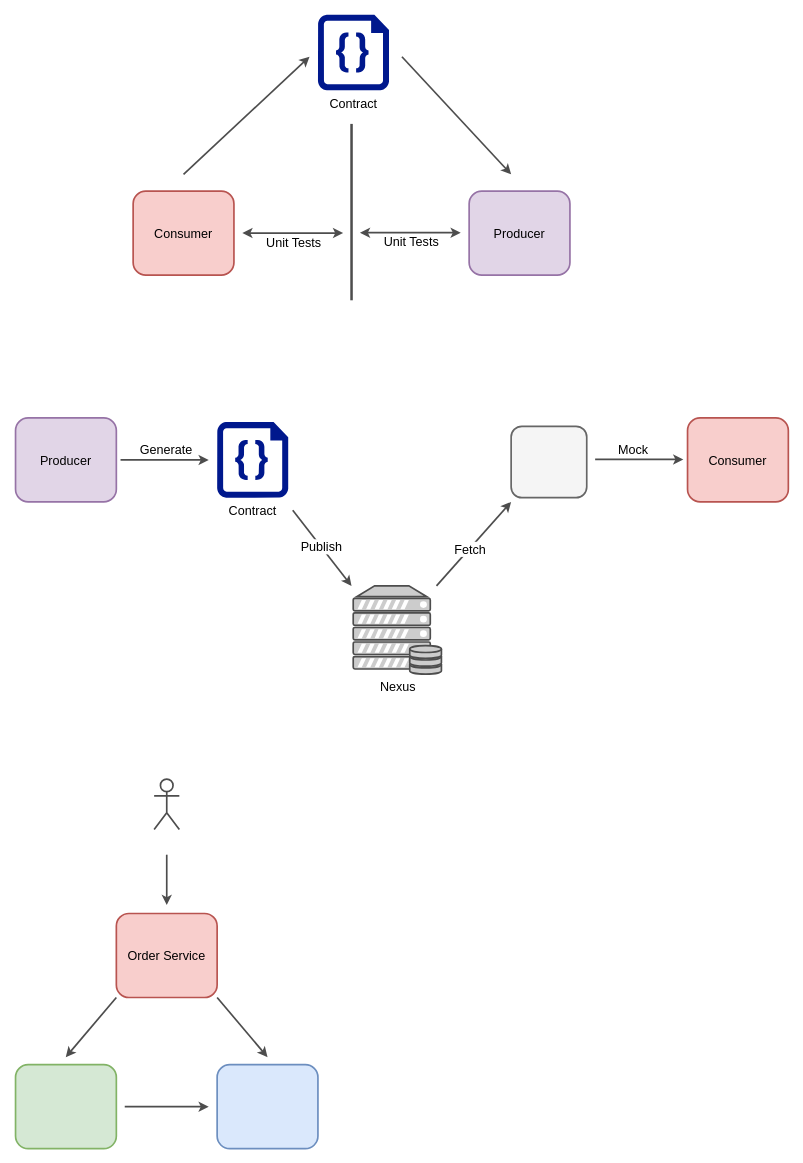
The diagram is 803 pixels wide and 1163 high, and some of its shapes have lost their labels. Each missing label, with the centre of its shape:
"Delivery Service" goes at pixel 65 1106.
"User" goes at pixel 166 804.
"Warehouse Service" goes at pixel 267 1106.
"WireMock Server" goes at pixel 548 461.
